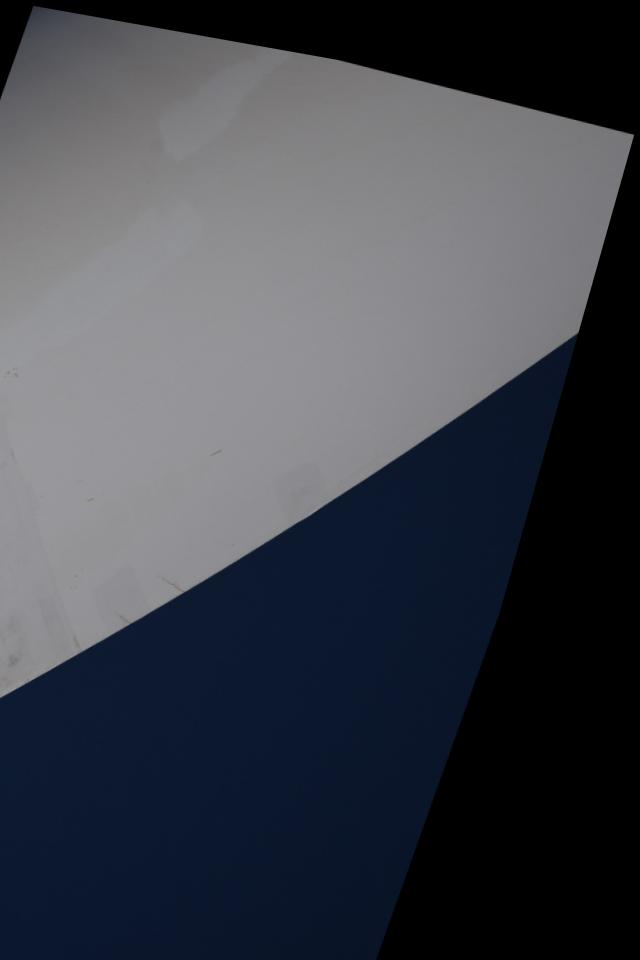damage: (7, 662, 41, 694), (189, 563, 219, 584), (143, 597, 166, 614)
